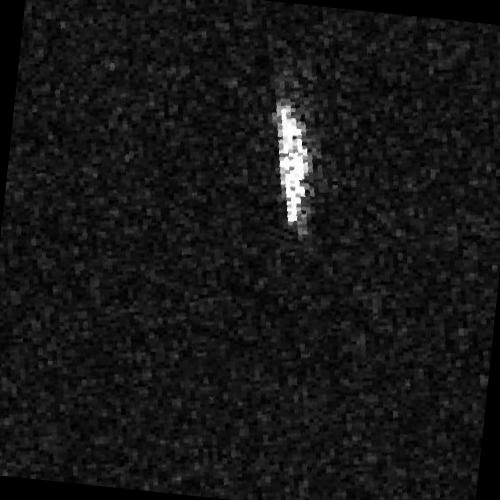ship: (274, 101, 310, 228)
